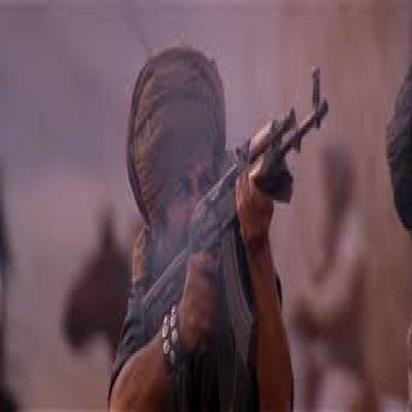Gun: (146, 64, 333, 390)
